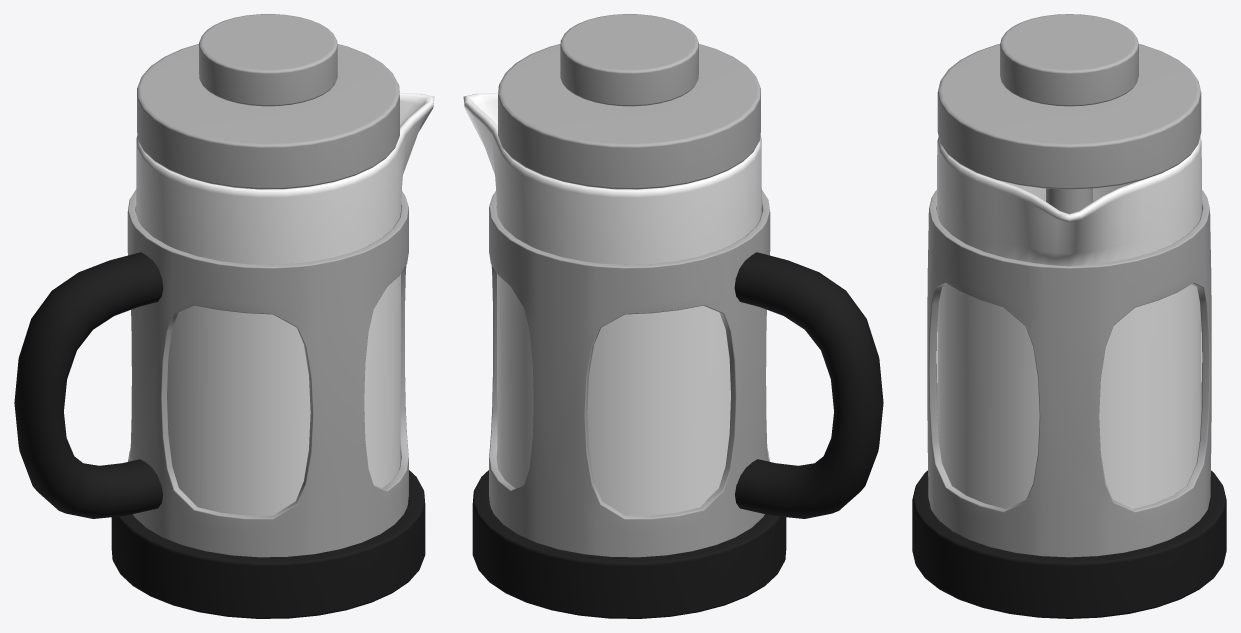
File: SM_french_press.glb
3 renders of one model, left to right at view 1: azimuth 30°, elevation 25°; view 2: azimuth 150°, elevation 25°; view 3: azimuth 270°, elevation 25°, orthographic.
Visible parts, largest first — view 1: SM_french_press; view 2: SM_french_press; view 3: SM_french_press.
Boxes of the visible parts, x1=… form: SM_french_press: x1=14, y1=14, x2=434, y2=618; SM_french_press: x1=463, y1=14, x2=883, y2=618; SM_french_press: x1=912, y1=14, x2=1226, y2=618.
Bounding box in the file's own units: 0.2253 × 0.2655 × 0.148.
3 materials, 3 textured.
